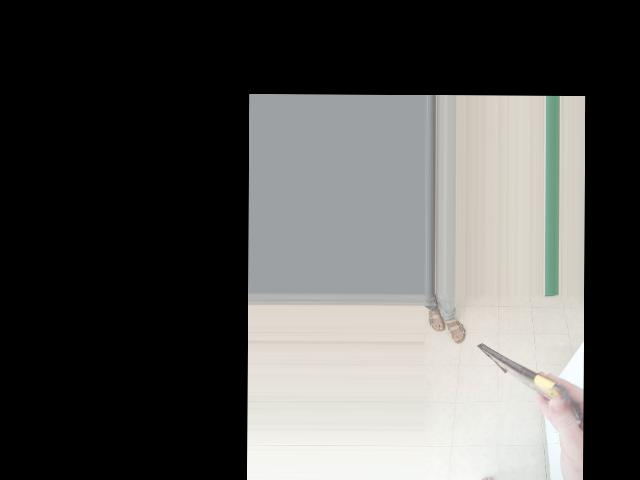chocolate: (456, 347, 531, 450)
